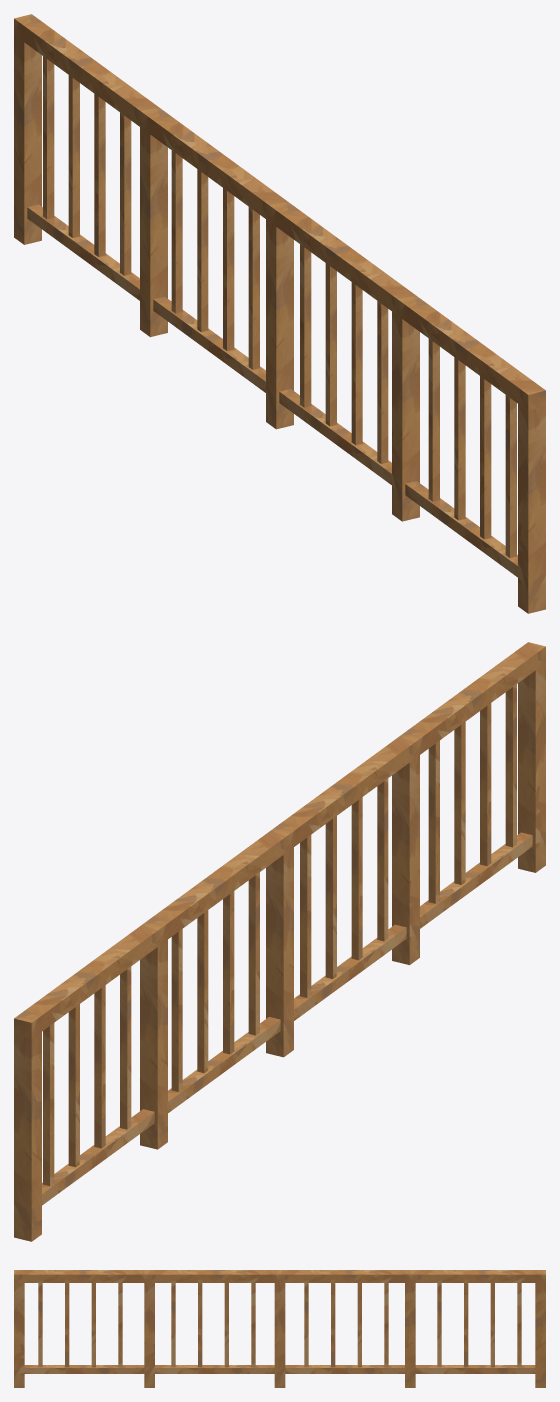
File: StairwellSideGuard.fbx
3 views of the same model, one above another, from view 1: azimuth 30°, elevation 25°; view 2: azimuth 150°, elevation 25°; view 3: azimuth 270°, elevation 25° (orthographic). The views are drawn at different scales.
Visible parts, largest first — view 1: StairwellSideGuard; view 2: StairwellSideGuard; view 3: StairwellSideGuard.
Part boxes in pixels (left/top/right/bottom): StairwellSideGuard: left=14, top=14, right=545, bottom=613; StairwellSideGuard: left=14, top=642, right=545, bottom=1241; StairwellSideGuard: left=14, top=1270, right=545, bottom=1387.
Size of the model in its own units: 0.08 by 0.94 by 4.
